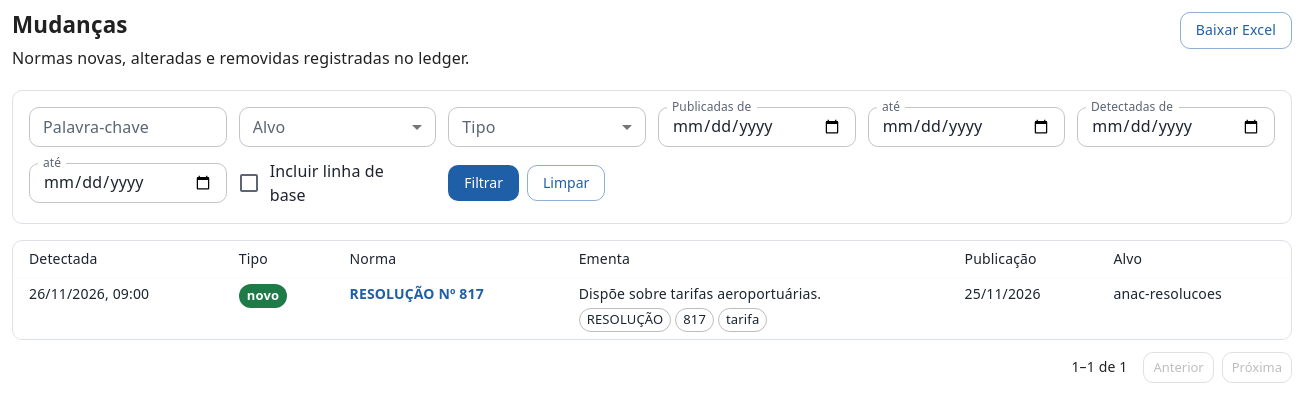
Test: MudancasPage › Filtrar envia palavra, alvo e linha de base; Limpar zera tudo
Expected: the table named "Mudanças" is shown, [13,241,1291,339]
Type "  aeródromo " into the field labelled "Palavra-chave" at (128, 127), box [29,107,227,147]
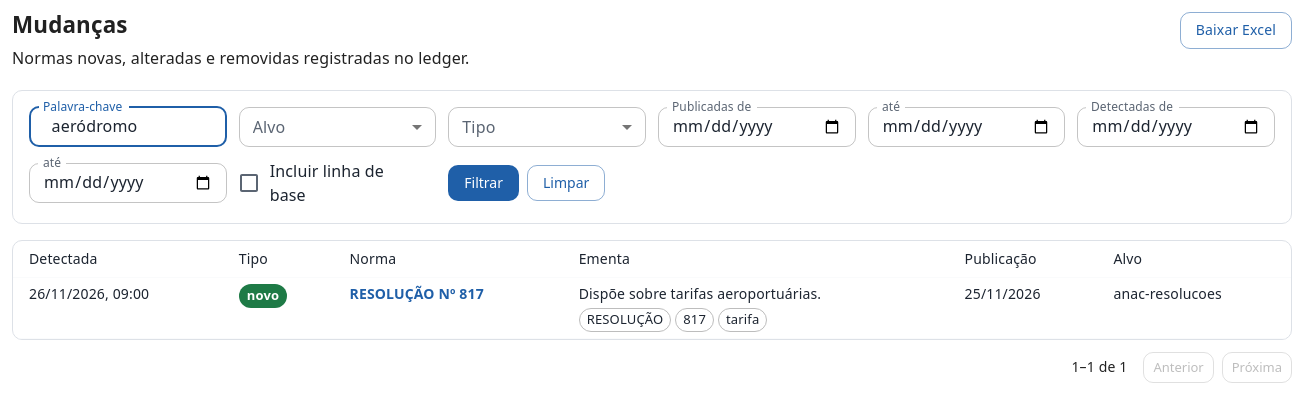
Click the 1st dropdown named "Alvo" at (338, 127), box [239,107,436,147]
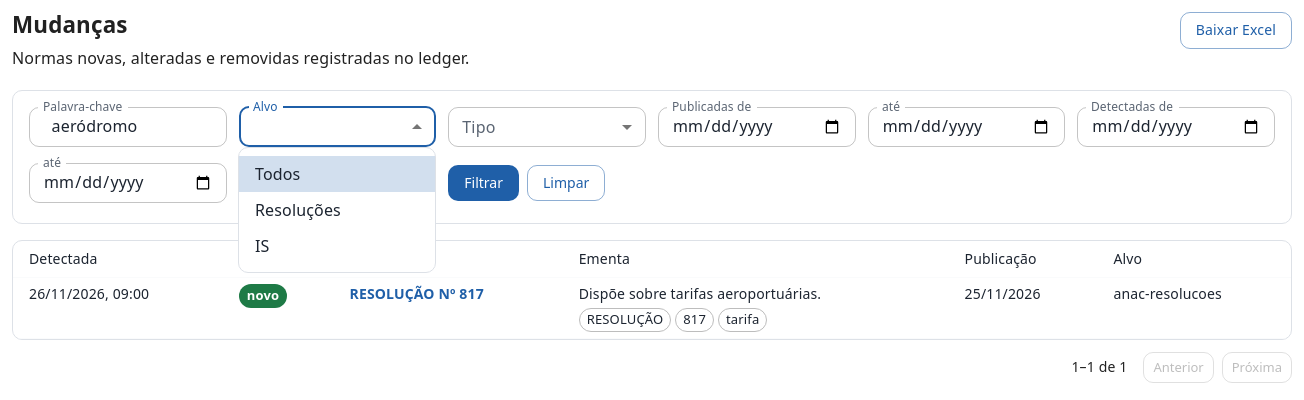
Click the option "IS" at (262, 246), box [255,235,270,257]
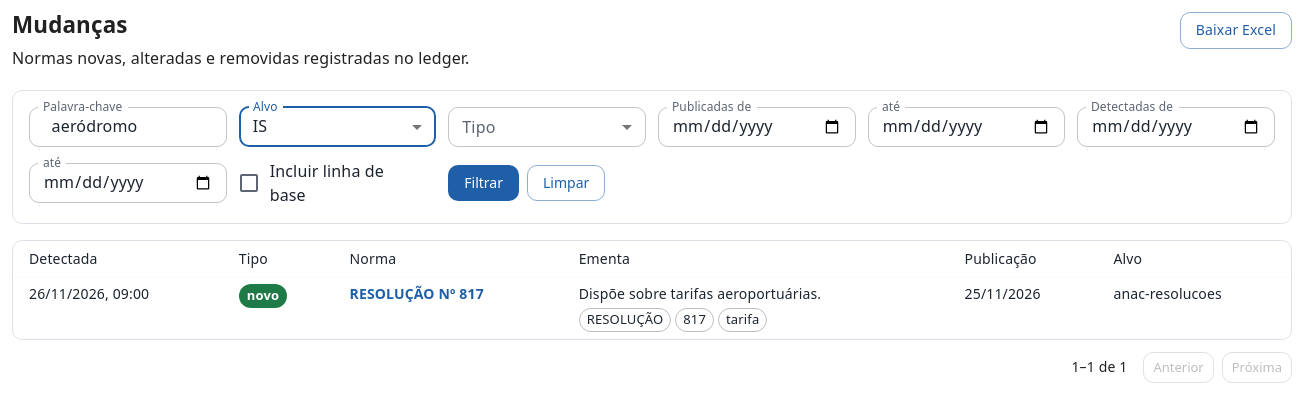
Click the checkbox labelled "Incluir linha de base" at (310, 183), box [237,160,384,206]
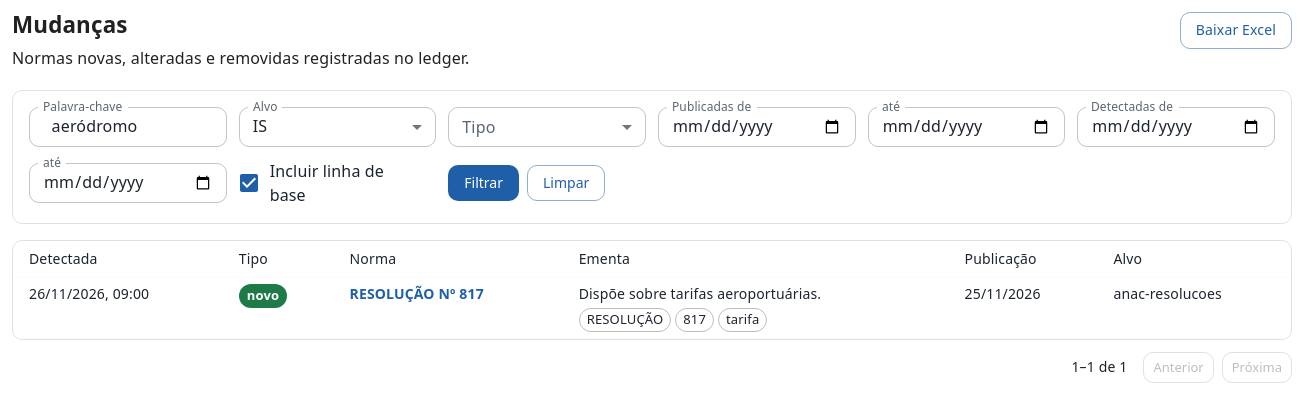
Click the button "Filtrar" at (484, 183), box [448,165,519,201]
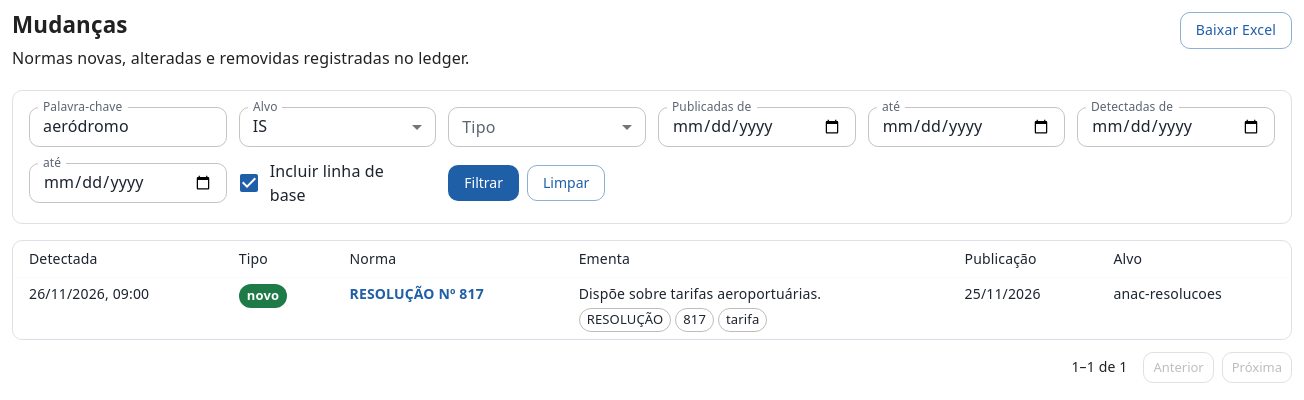
Click the button "Limpar" at (566, 183), box [527,165,605,201]
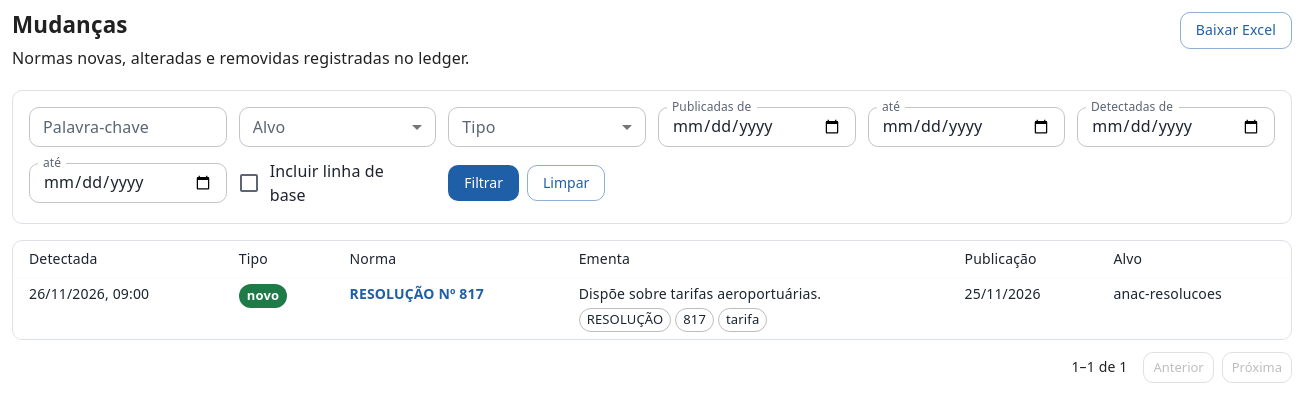
Now the field labelled "Palavra-chave" is empty, box [29,107,227,147]
